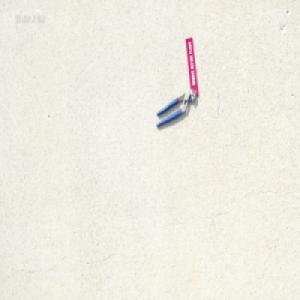Label: (185, 35, 199, 96)
Pliers: (155, 87, 197, 128)
